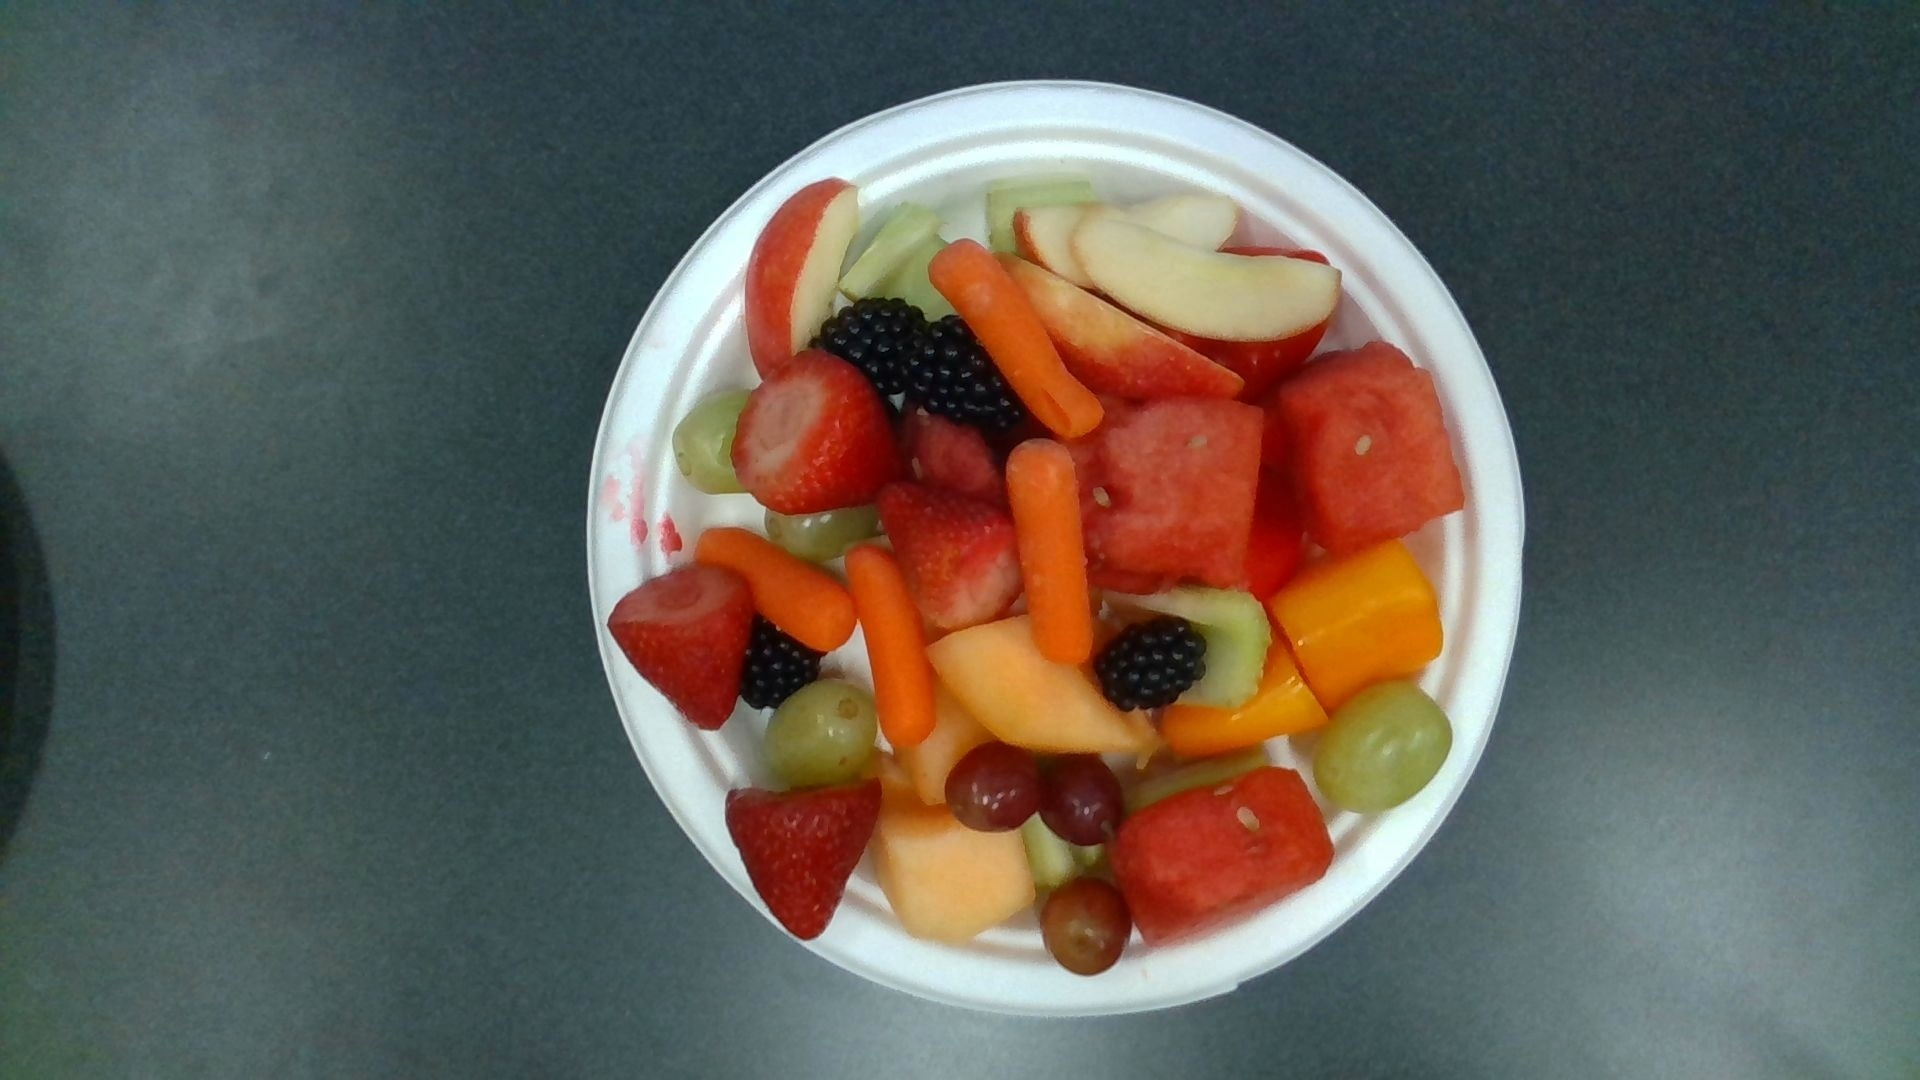apple: (1073, 218, 1342, 360), (1005, 253, 1244, 398), (745, 179, 858, 380)
bell_pepper: (1273, 541, 1440, 709)
blackberry: (812, 301, 924, 392), (1097, 620, 1205, 708)
cantalope: (928, 615, 1167, 752), (874, 808, 1035, 943)
carrot: (928, 240, 1105, 436), (694, 526, 855, 650), (840, 543, 934, 742), (1007, 440, 1091, 663)
grape_green: (1315, 683, 1451, 815), (765, 680, 876, 781)
grape_purple: (1042, 878, 1130, 975), (945, 746, 1042, 833)
melon: (1109, 770, 1335, 945), (1275, 345, 1462, 551), (1087, 396, 1265, 574)
strawberry: (735, 351, 905, 516), (725, 781, 882, 936), (609, 564, 749, 728), (876, 483, 1022, 626)
